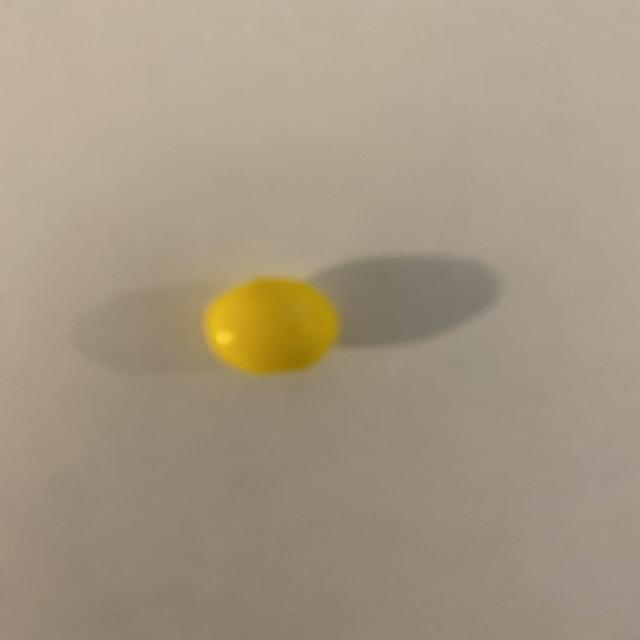smartie: (200, 277, 341, 379)
